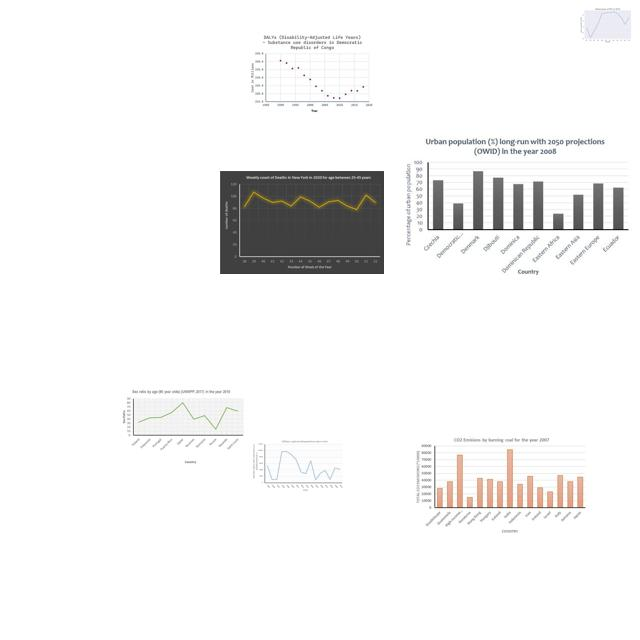Graph: (399, 134, 633, 275), (220, 171, 384, 274), (415, 436, 587, 534), (248, 34, 374, 114), (118, 388, 245, 464), (252, 439, 344, 492), (577, 4, 637, 45)
